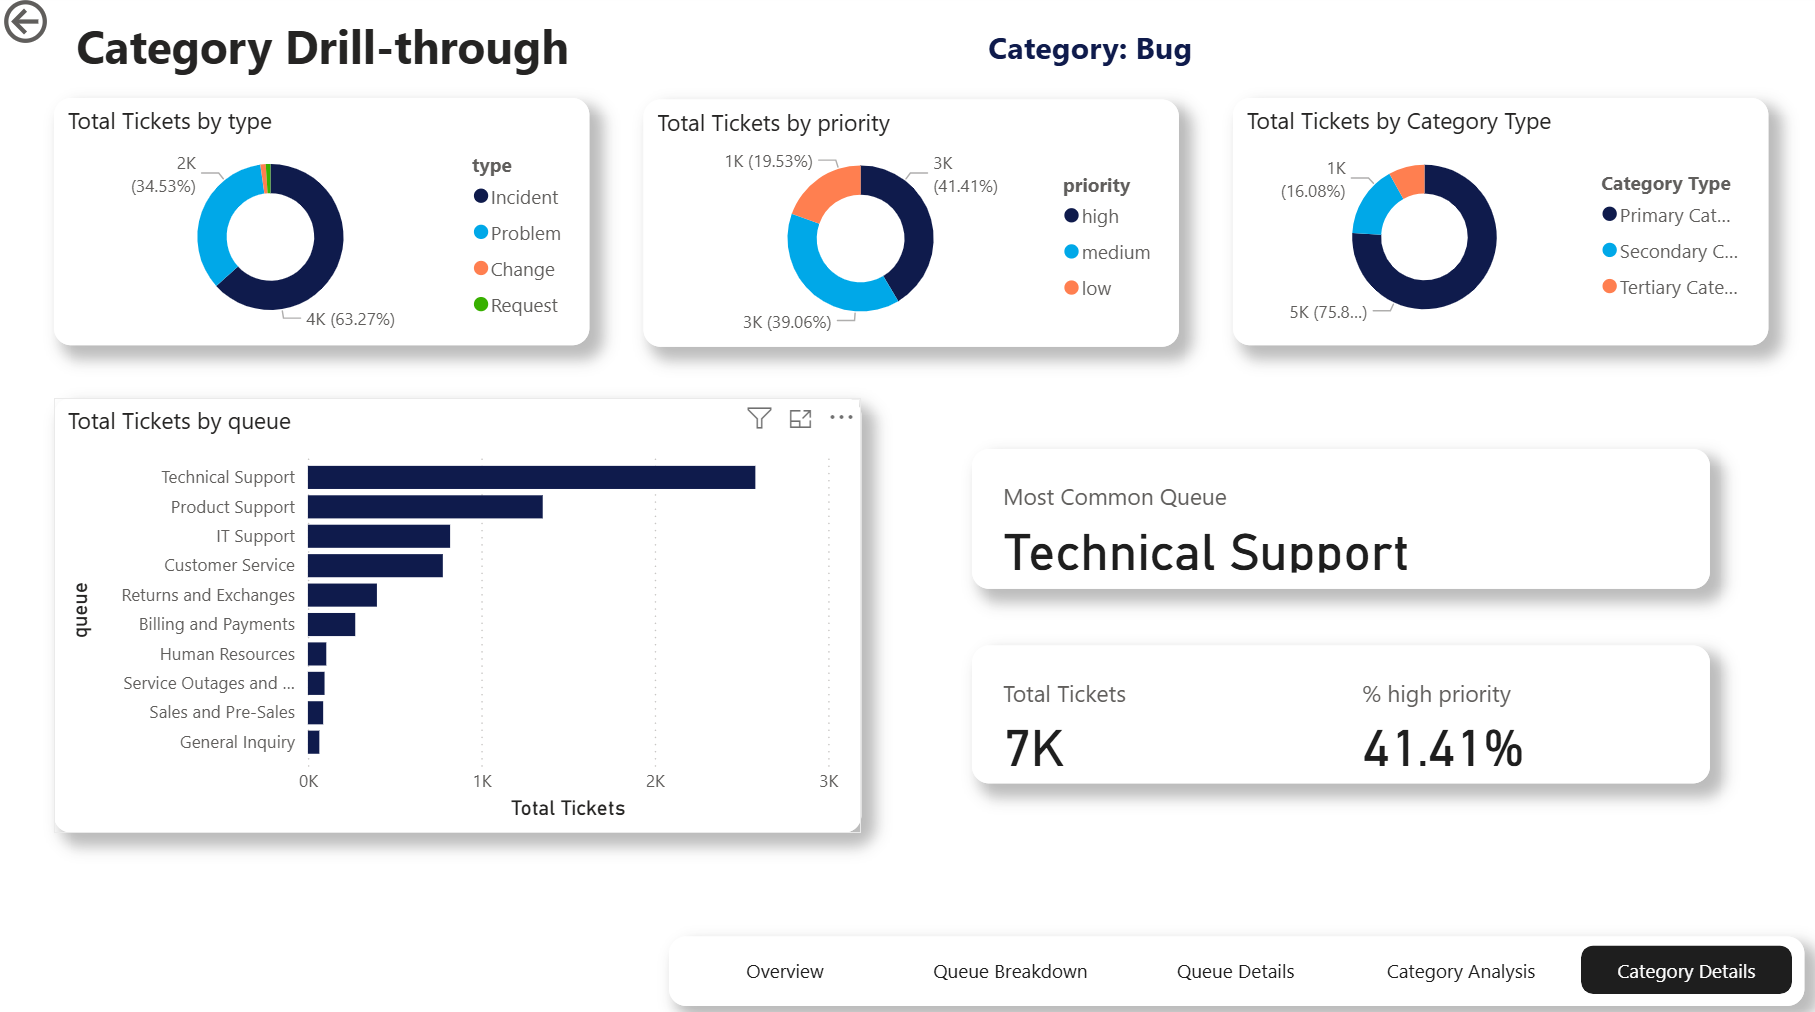

The page's visual inventory and layout, read from the dashboard file:
{"tool":"powerbi","page":{"name":"Category Details","canvas":[1280,720],"ordinal":4},"visuals":[{"type":"shape","box":[471,661,796.1,48.4],"z":0},{"type":"actionButton","box":[0,0,100,40],"z":1000},{"type":"clusteredBarChart","fields":{"Category":["dataset.queue"],"Y":["Table.Total Tickets"]},"box":[40,283.9,565.8,305],"z":2000},{"type":"donutChart","fields":{"Y":["Table.Total Tickets"],"Category":["dataset.priority"]},"box":[453.2,74.7,375.4,173.5],"z":3000},{"type":"donutChart","fields":{"Y":["Table.Total Tickets"],"Category":["dataset.Category Type"]},"box":[866.5,73.6,375.4,173.5],"z":4000},{"type":"donutChart","fields":{"Category":["dataset.type"],"Y":["Table.Total Tickets"]},"box":[40,73.6,375.4,173.5],"z":5000},{"type":"cardVisual","fields":{"Data":["Table.Total Tickets","Table.% high priority"]},"box":[683.6,457.5,517.4,96.7],"z":6000},{"type":"cardVisual","fields":{"Data":["Table.Most Common Queue"]},"box":[683.6,319.7,517.4,97.8],"z":7000},{"type":"card","fields":{"Values":["Table.Category Page Title"]},"box":[492.2,20,548,38],"z":8000},{"type":"pageNavigator","box":[478.5,667.8,780.3,34.7],"z":9000},{"type":"textbox","box":[918,0,37,150],"z":10000},{"type":"textbox","box":[50,9,402.8,64.1],"z":11000}]}

Visuals, with their boxes in screenshot pixels (x1, y1, x2, y2), scaled from the page's 1280x720 canvas onto the 1815x1012 screenshot:
shape: {"left": 668, "top": 929, "right": 1797, "bottom": 997}
actionButton: {"left": 0, "top": 0, "right": 142, "bottom": 56}
clusteredBarChart - dataset.queue x Table.Total Tickets: {"left": 57, "top": 399, "right": 859, "bottom": 828}
donutChart - Table.Total Tickets x dataset.priority: {"left": 643, "top": 105, "right": 1175, "bottom": 349}
donutChart - Table.Total Tickets x dataset.Category Type: {"left": 1229, "top": 103, "right": 1761, "bottom": 347}
donutChart - dataset.type x Table.Total Tickets: {"left": 57, "top": 103, "right": 589, "bottom": 347}
cardVisual - Table.Total Tickets x Table.% high priority: {"left": 969, "top": 643, "right": 1703, "bottom": 779}
cardVisual - Table.Most Common Queue: {"left": 969, "top": 449, "right": 1703, "bottom": 587}
card - Table.Category Page Title: {"left": 698, "top": 28, "right": 1475, "bottom": 82}
pageNavigator: {"left": 678, "top": 939, "right": 1785, "bottom": 987}
textbox: {"left": 1302, "top": 0, "right": 1354, "bottom": 211}
textbox: {"left": 71, "top": 13, "right": 642, "bottom": 103}
